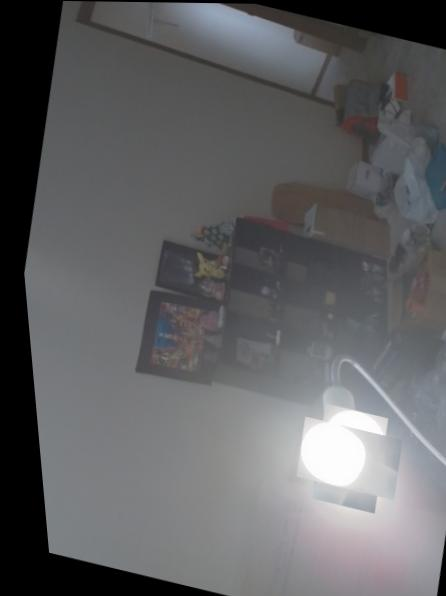TubeLight: (289, 409, 393, 506)
